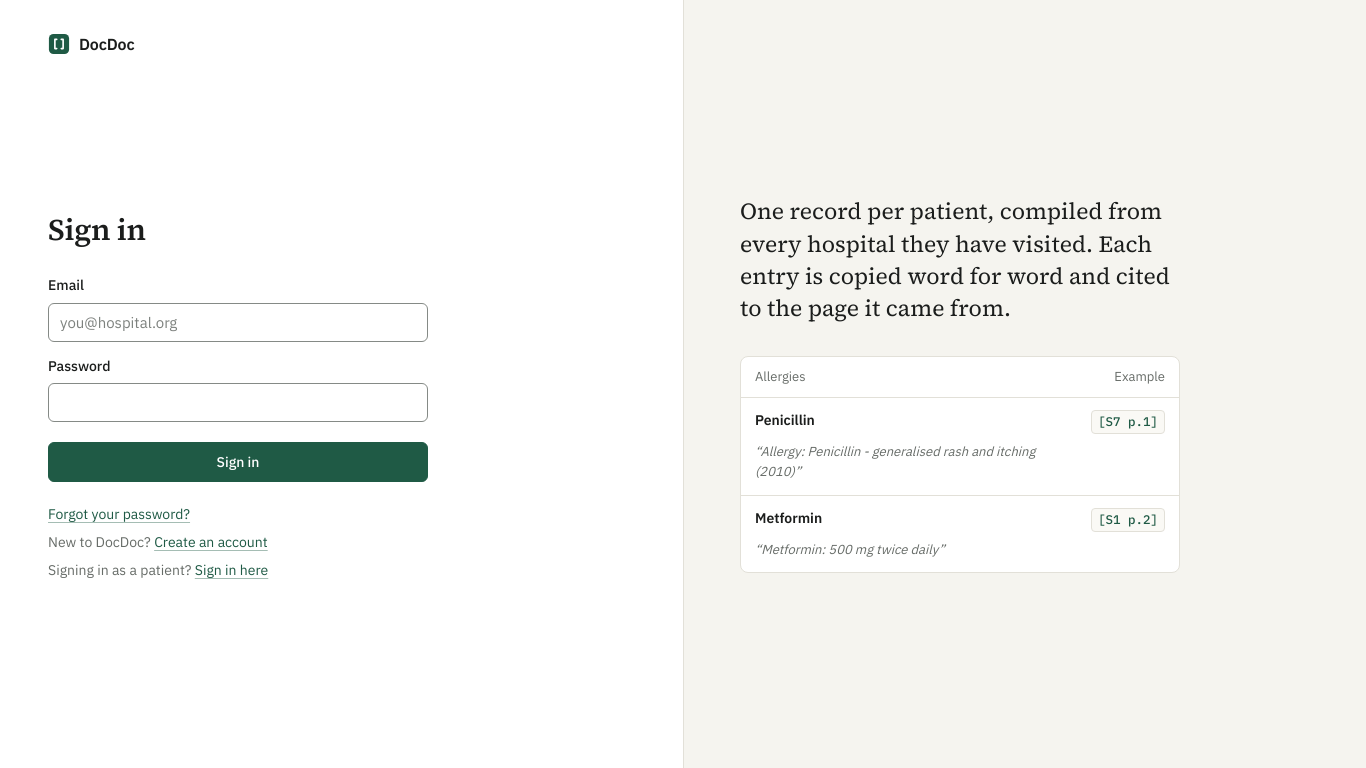
Test: sign in › shows a wrong-password error tied to the fields
The image size is (1366, 768).
Type "asha@example.com" into the field labelled "Email" at (238, 322), box [48, 303, 428, 342]
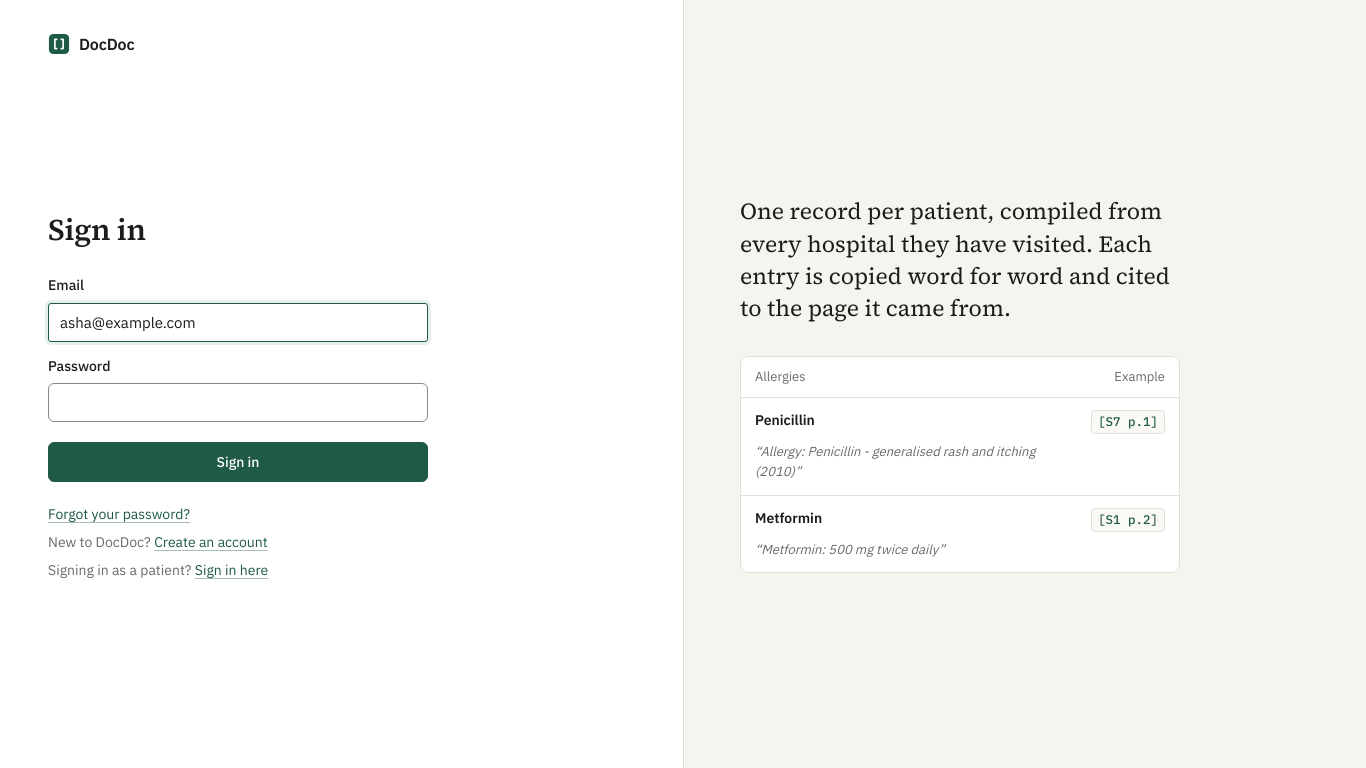
Type "wrong-password-123" into the password field labelled "Password" at (238, 403), box [48, 383, 428, 422]
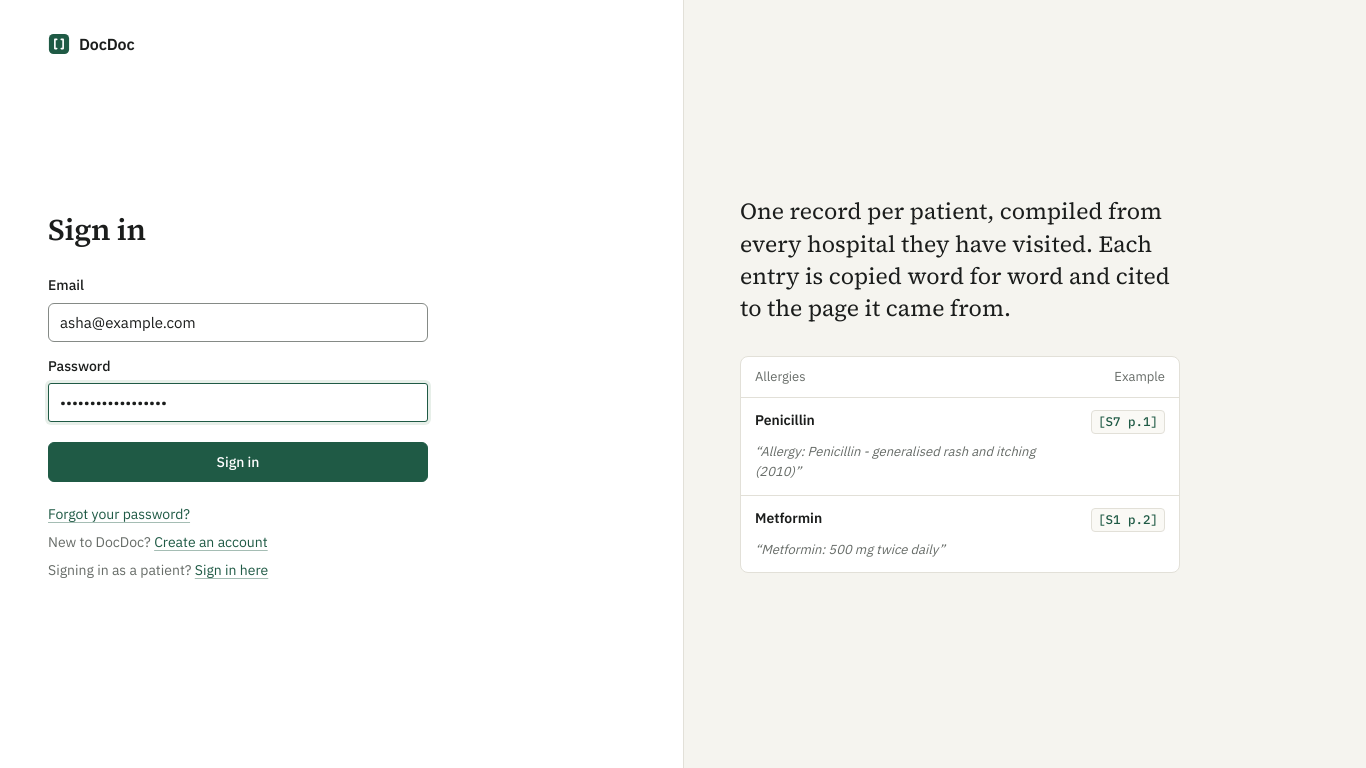
Click the button "Sign in" at (238, 462), box [48, 442, 428, 482]
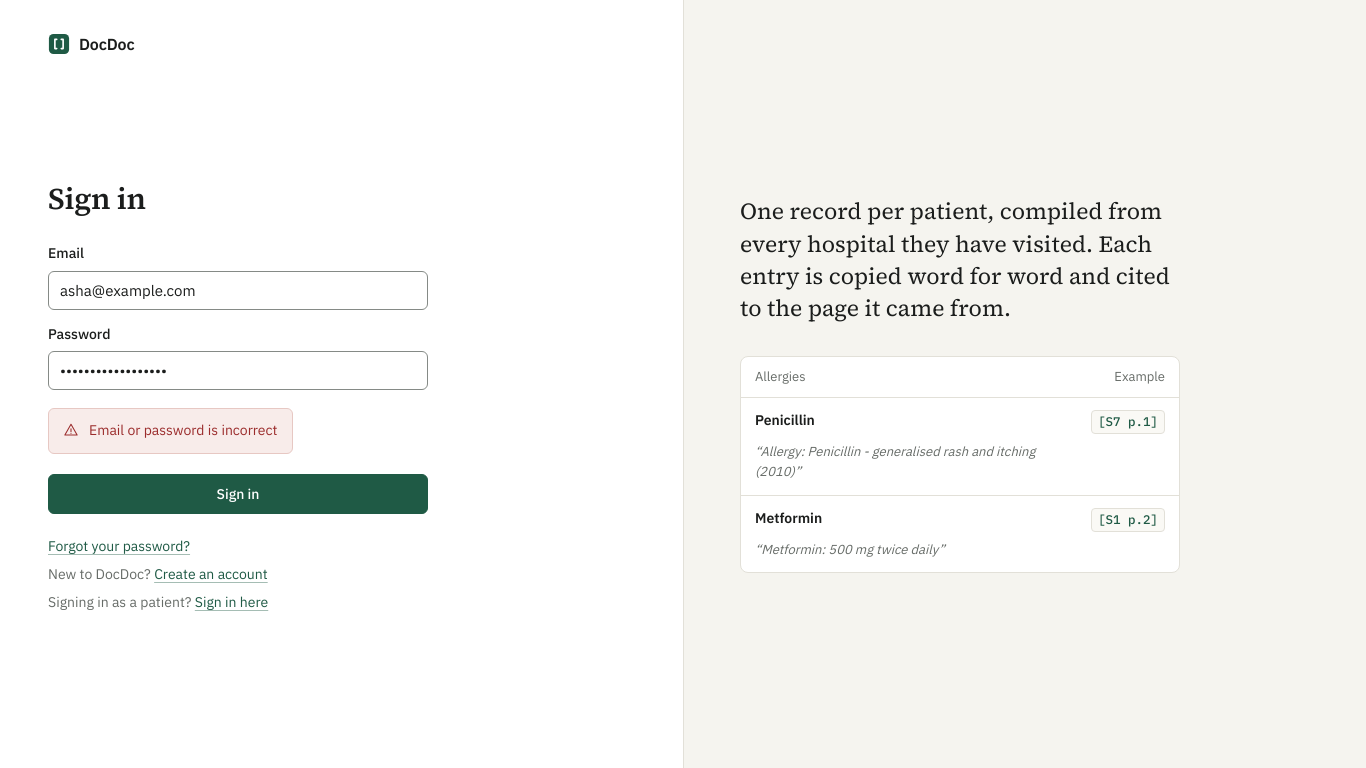
Expected: the message reads "Email or password is incorrect", [89, 422, 278, 440]
